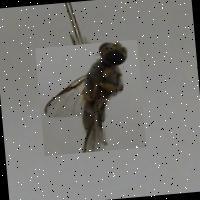Oriental-fruit-fly: (34, 40, 146, 156)
